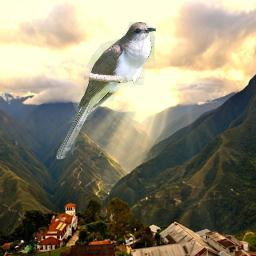Cuckoo: (55, 22, 156, 160)
